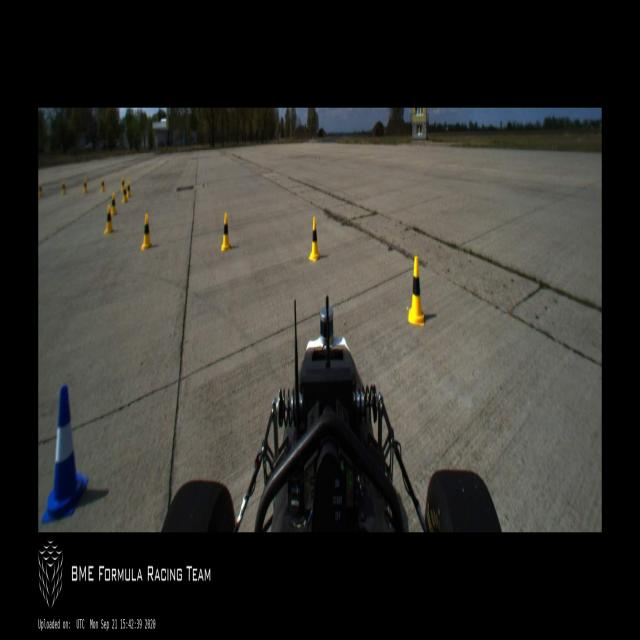blue_cone: (41, 385, 89, 524)
yellow_cone: (408, 256, 424, 326), (309, 217, 320, 261), (141, 212, 152, 250), (221, 214, 231, 251), (105, 204, 113, 233), (110, 194, 117, 215), (122, 184, 128, 202), (61, 180, 66, 195), (100, 178, 105, 192), (127, 182, 131, 198), (121, 175, 125, 191), (83, 178, 87, 194), (38, 181, 42, 197)
